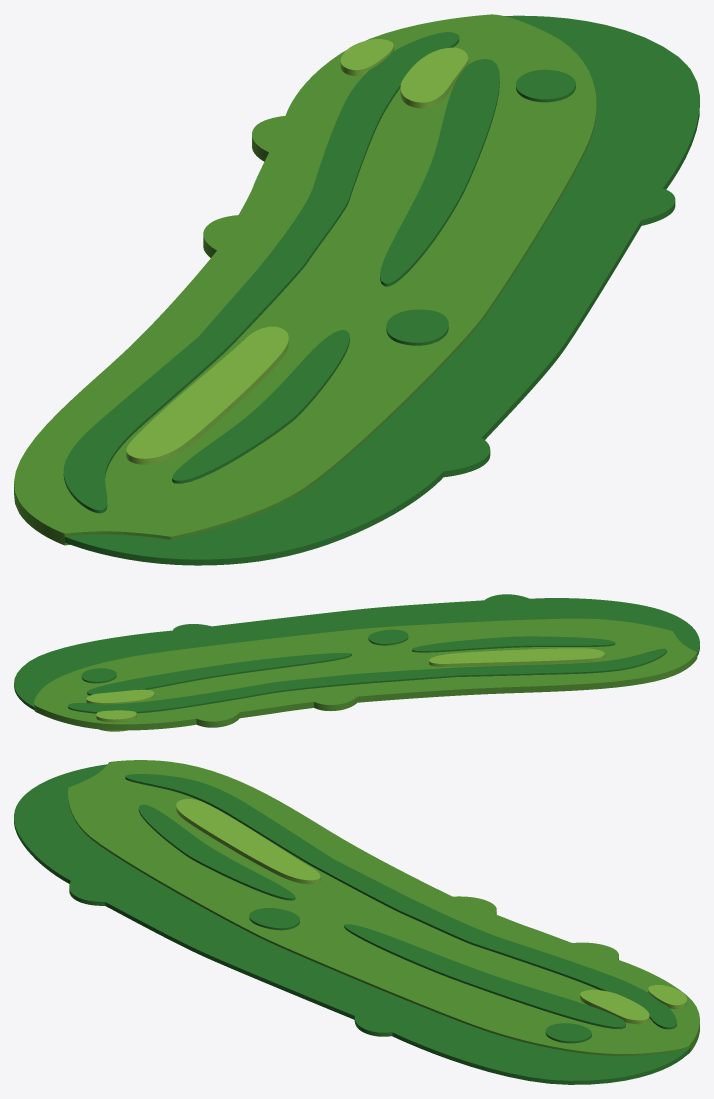
Rendered from emoji_u1f952.glb.
The picture shows the model from 3 angles, top to bottom: view 1: azimuth 30°, elevation 25°; view 2: azimuth 150°, elevation 25°; view 3: azimuth 270°, elevation 25°; orthographic projection. The views are drawn at different scales.
Parts seen in each view (by area): view 1: emoji_u1f952; view 2: emoji_u1f952; view 3: emoji_u1f952.
Boxes of the visible parts, x1,y1,x2,y2 form: emoji_u1f952: [14, 14, 699, 565]; emoji_u1f952: [14, 594, 699, 731]; emoji_u1f952: [14, 760, 699, 1084].
Bounding box in the file's own units: 0.034 × 0.0008 × 0.0309.
